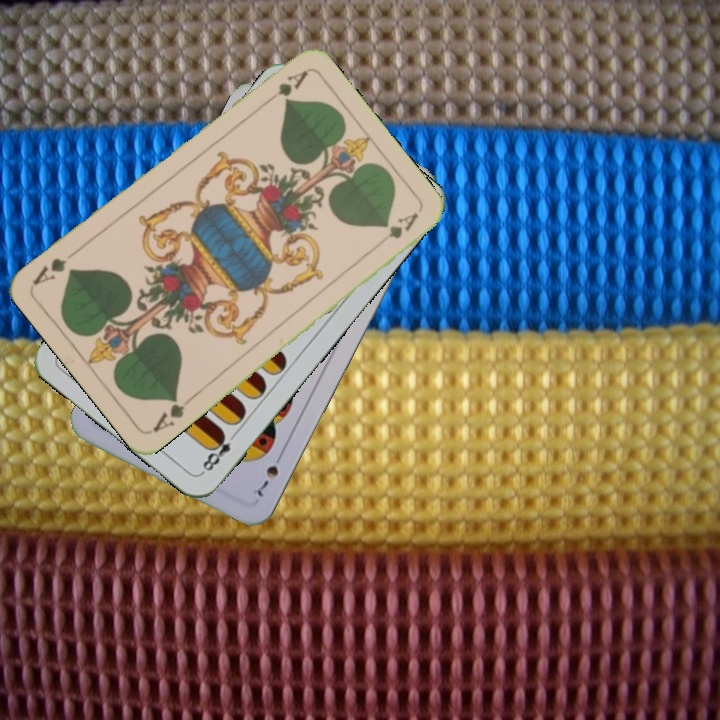E8: (198, 427, 241, 476)
GA: (259, 66, 311, 108), (148, 391, 197, 435)
S7: (253, 447, 286, 500)
